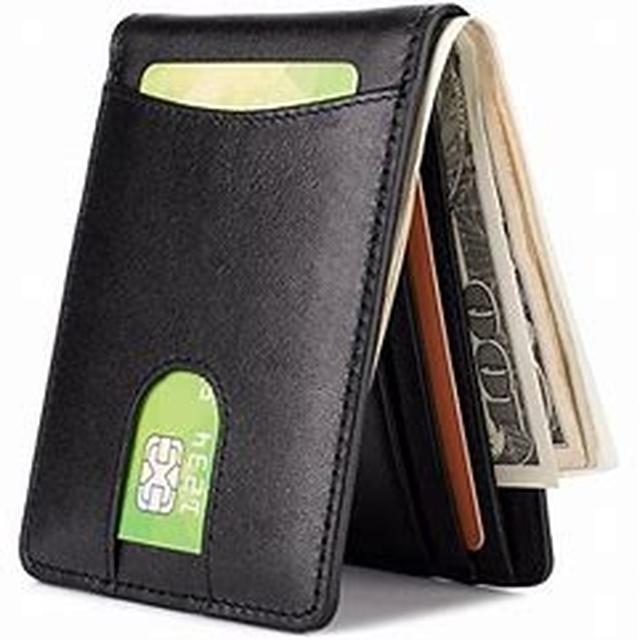card: (300, 184, 485, 585)
wallet: (9, 16, 506, 628)
